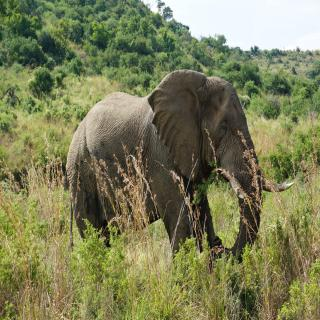Elephant: (62, 67, 294, 273)
